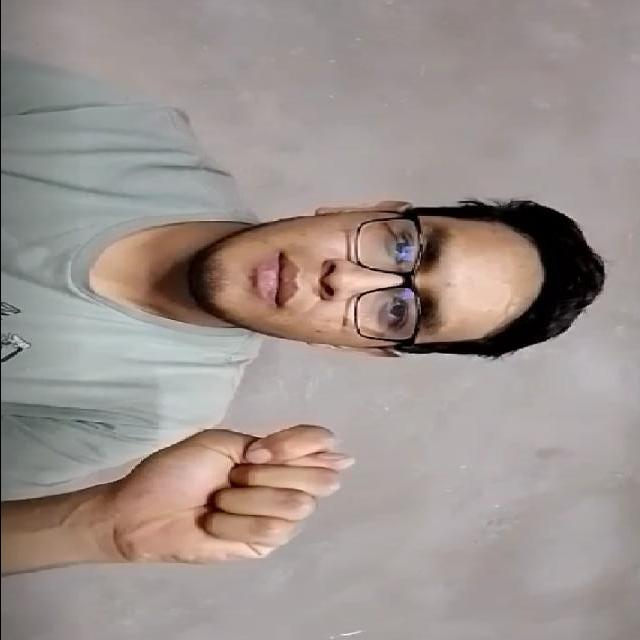T: (104, 404, 373, 586)
